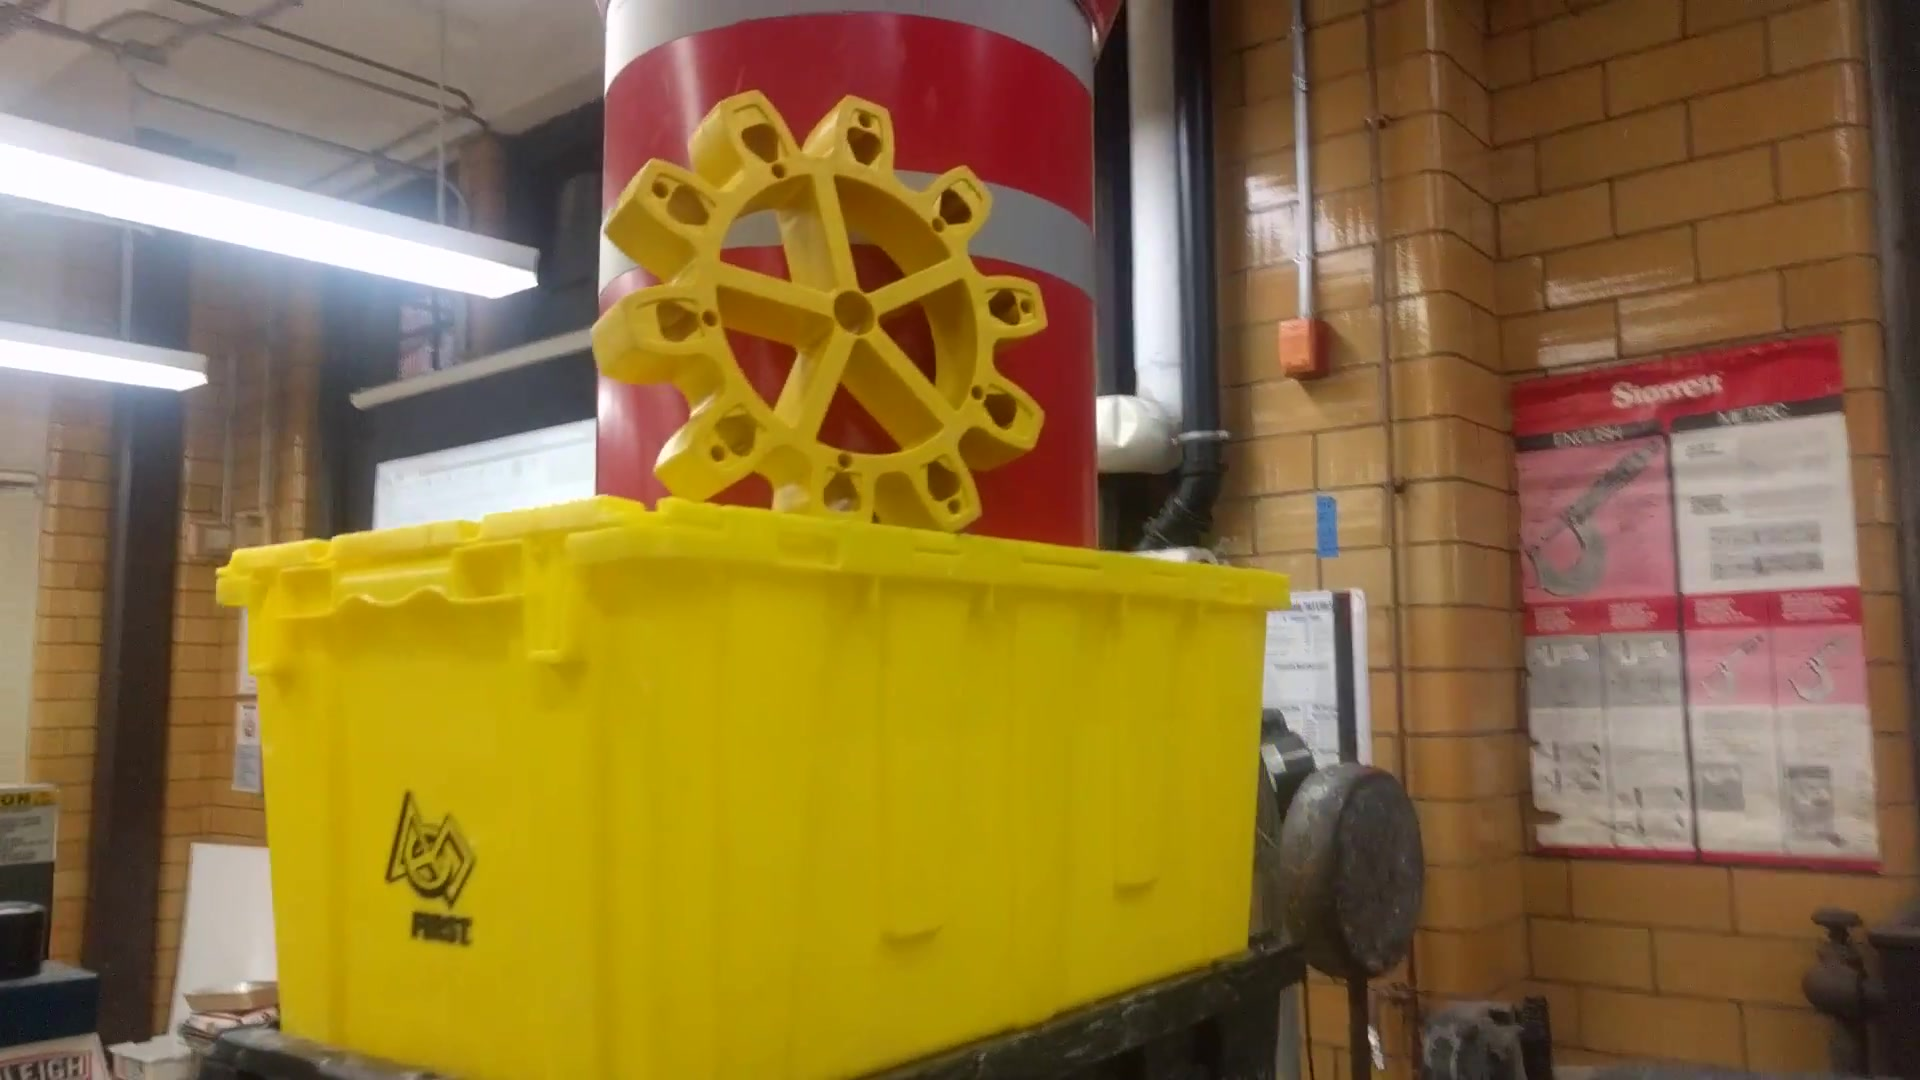gear: (601, 88, 1077, 582)
